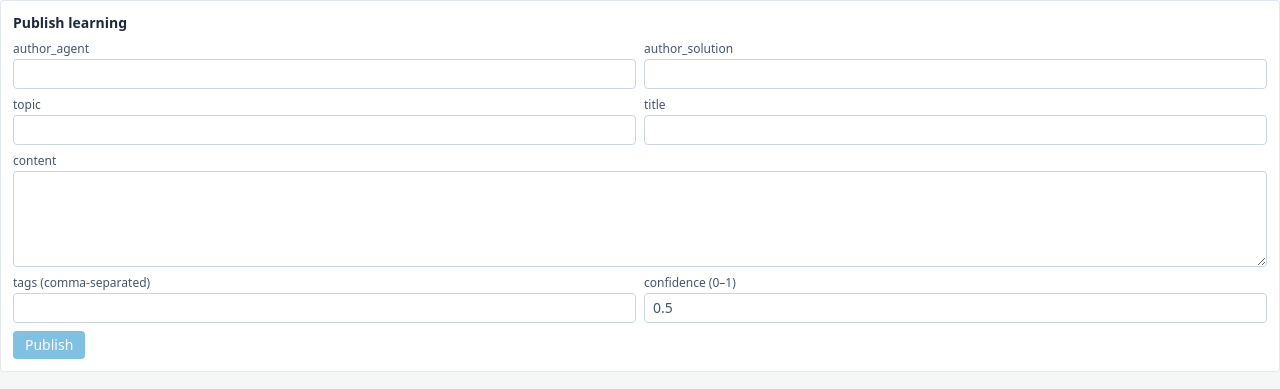
Scenario: PublishLearningForm › disables publish until all required fields are filled
This screenshot has width=1280, height=389.
Expected: the button "Publish" is disabled, [13,331,85,359]
Type "analyst" into the field labelled "author_agent" at (324, 74), box [13,59,636,89]
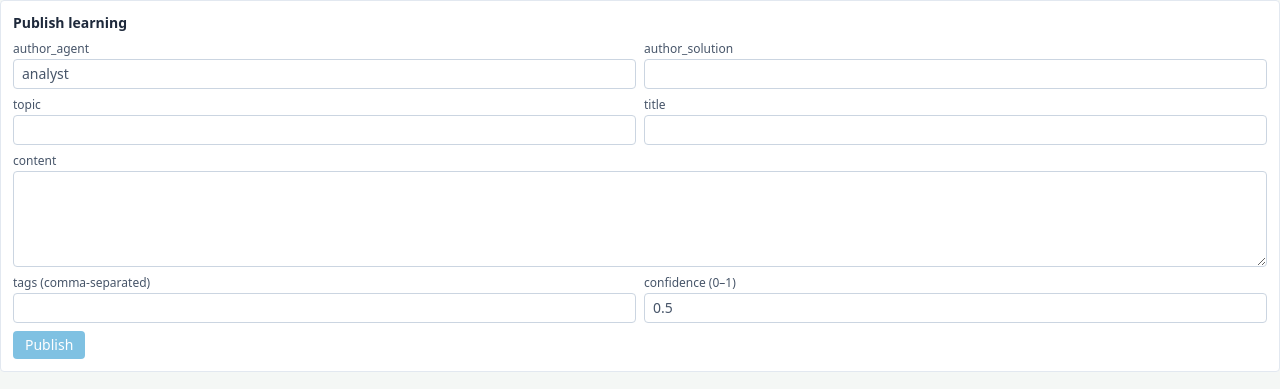
Type "medtech" into the field labelled "author_solution" at (956, 74), box [644,59,1267,89]
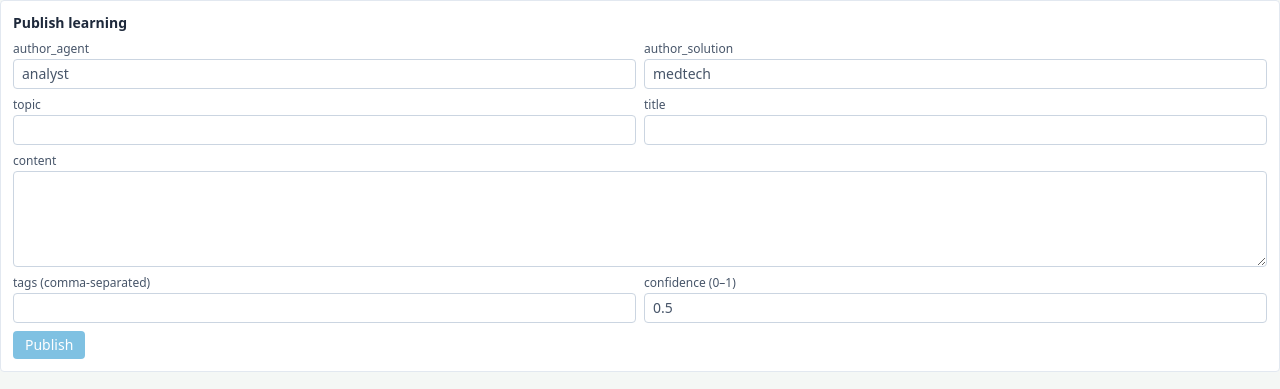
Type "uart" into the field labelled "topic" at (324, 130), box [13,115,636,145]
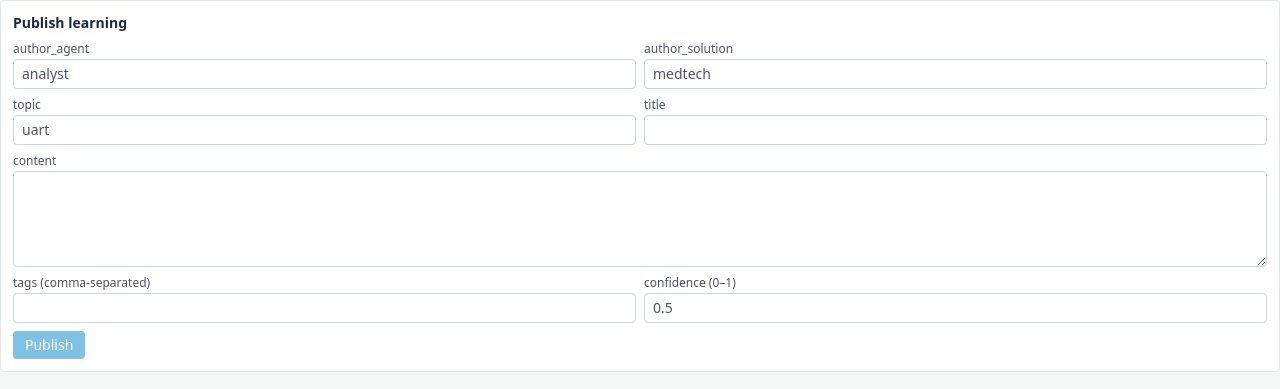
Type "UART recovery" into the field labelled "title" at (956, 130), box [644,115,1267,145]
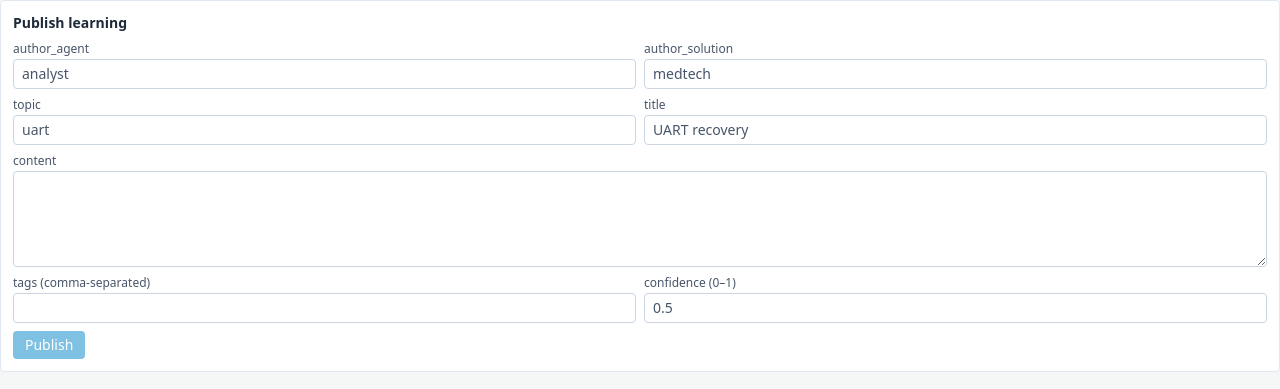
Type "Flush and retry." into the text box labelled "content" at (640, 219), box [13,171,1267,267]
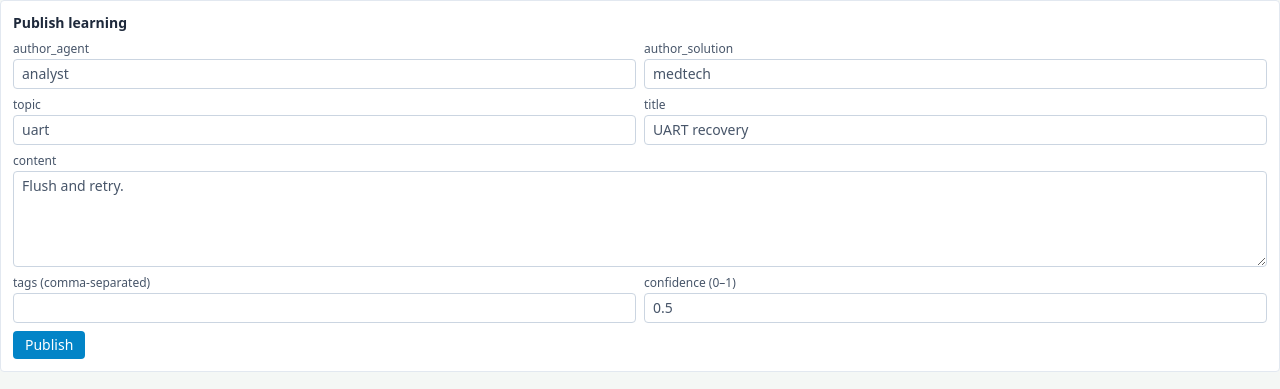
Expected: the button "Publish" is enabled, [13,331,85,359]
